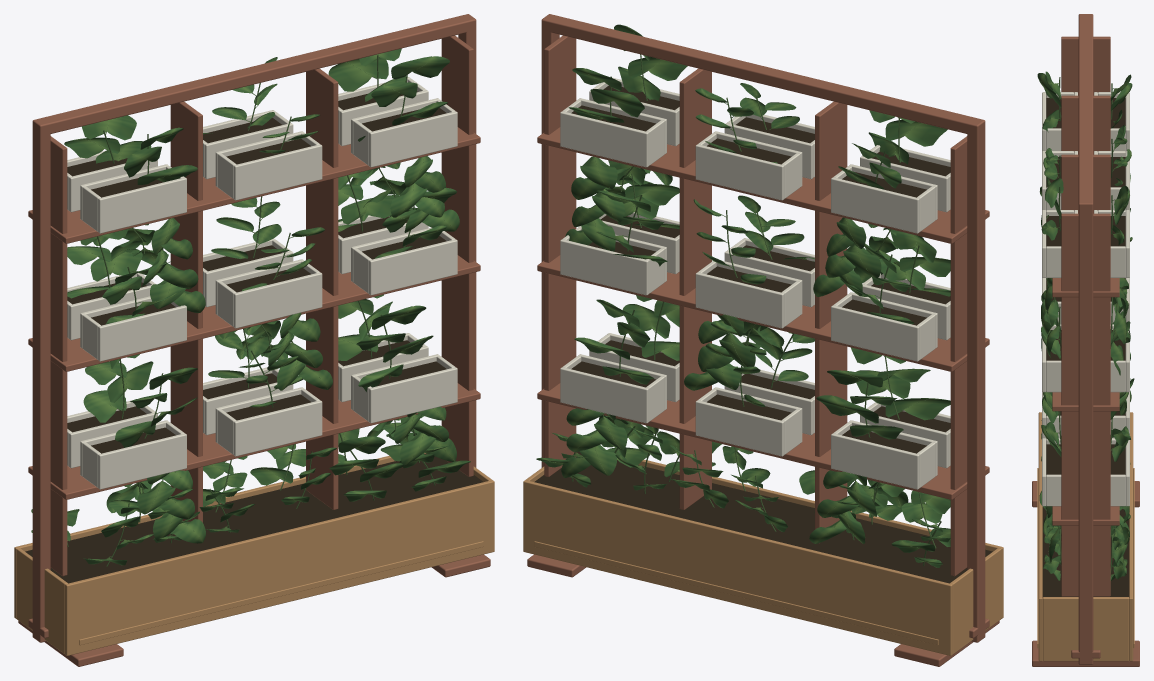
The model's file is botanicalDivider-2.glb.
3 views of the same model, side by side, from view 1: azimuth 30°, elevation 25°; view 2: azimuth 150°, elevation 25°; view 3: azimuth 270°, elevation 25° (orthographic). The views are drawn at different scales.
Visible parts, largest first — view 1: Botanical_powdercoat, Botanical_ceramic, Botanical_living_foliage, Botanical_frame_finish, Botanical_recessed_soil, Botanical_connected_stems, Botanical_leaf_midribs; view 2: Botanical_powdercoat, Botanical_ceramic, Botanical_living_foliage, Botanical_frame_finish, Botanical_recessed_soil, Botanical_connected_stems, Botanical_leaf_midribs; view 3: Botanical_powdercoat, Botanical_living_foliage, Botanical_ceramic, Botanical_frame_finish, Botanical_recessed_soil, Botanical_connected_stems, Botanical_leaf_midribs.
Boxes of the visible parts, bbox=[...] form: Botanical_powdercoat: bbox=[18, 14, 490, 666]; Botanical_ceramic: bbox=[67, 77, 457, 489]; Botanical_living_foliage: bbox=[31, 48, 470, 565]; Botanical_frame_finish: bbox=[14, 453, 494, 655]; Botanical_recessed_soil: bbox=[25, 91, 483, 583]; Botanical_connected_stems: bbox=[67, 55, 435, 566]; Botanical_leaf_midribs: bbox=[67, 54, 457, 560]; Botanical_powdercoat: bbox=[527, 14, 999, 666]; Botanical_ceramic: bbox=[560, 77, 950, 489]; Botanical_living_foliage: bbox=[536, 24, 950, 567]; Botanical_frame_finish: bbox=[523, 459, 1003, 655]; Botanical_recessed_soil: bbox=[534, 85, 992, 583]; Botanical_connected_stems: bbox=[571, 54, 941, 566]; Botanical_leaf_midribs: bbox=[548, 26, 948, 562]; Botanical_powdercoat: bbox=[1032, 14, 1139, 666]; Botanical_living_foliage: bbox=[1037, 71, 1134, 580]; Botanical_ceramic: bbox=[1042, 92, 1129, 506]; Botanical_frame_finish: bbox=[1037, 412, 1134, 661]; Botanical_recessed_soil: bbox=[1042, 98, 1129, 597]; Botanical_connected_stems: bbox=[1054, 77, 1117, 576]; Botanical_leaf_midribs: bbox=[1041, 75, 1131, 570].
Size of the model in its own units: 2 by 2.3 by 0.48.
